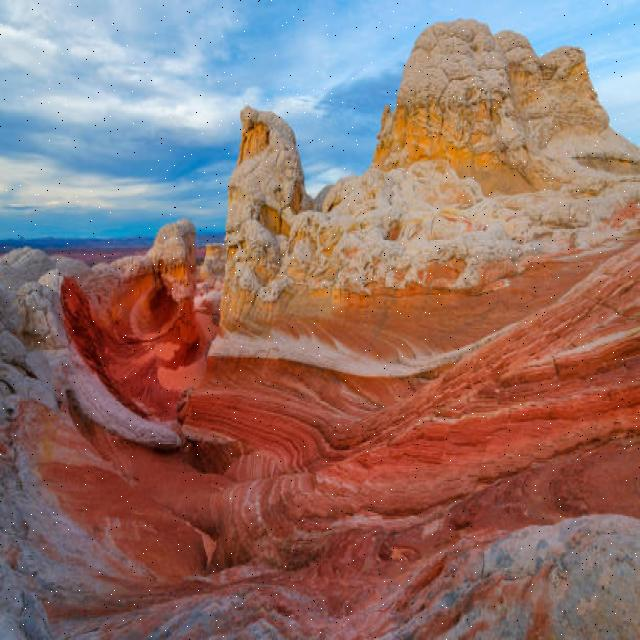Sedimentary: (4, 248, 640, 637), (227, 5, 640, 246)
